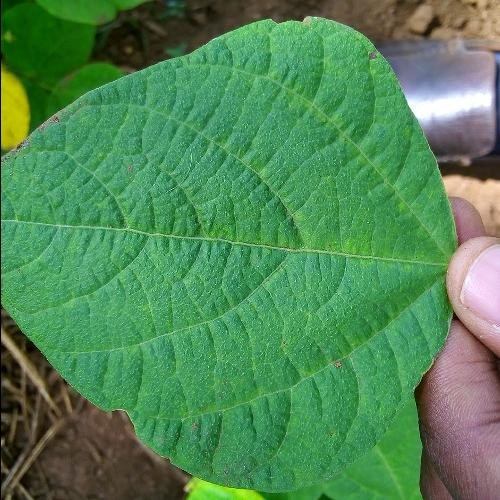hawar: (11, 109, 70, 166)
sehat: (111, 103, 393, 389)
